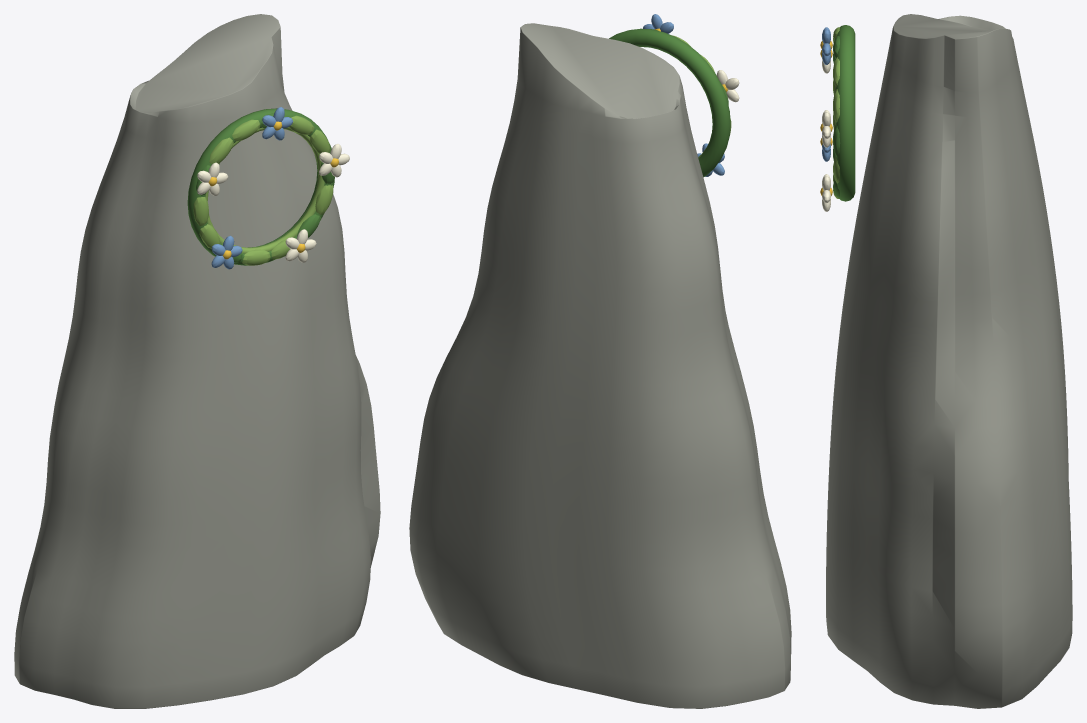
Rendered from standing_stone.glb.
3 views of the same model, side by side, from view 1: azimuth 30°, elevation 25°; view 2: azimuth 150°, elevation 25°; view 3: azimuth 270°, elevation 25° (orthographic). The views are drawn at different scales.
Visible parts, largest first — view 1: standing_stone; view 2: standing_stone; view 3: standing_stone.
Boxes of the visible parts, box(x1,y1,x2,y2) form: standing_stone: box(14, 14, 380, 708); standing_stone: box(409, 14, 791, 708); standing_stone: box(820, 14, 1072, 708).
Size of the model in its own units: 1.73 by 2.87 by 0.9925.
